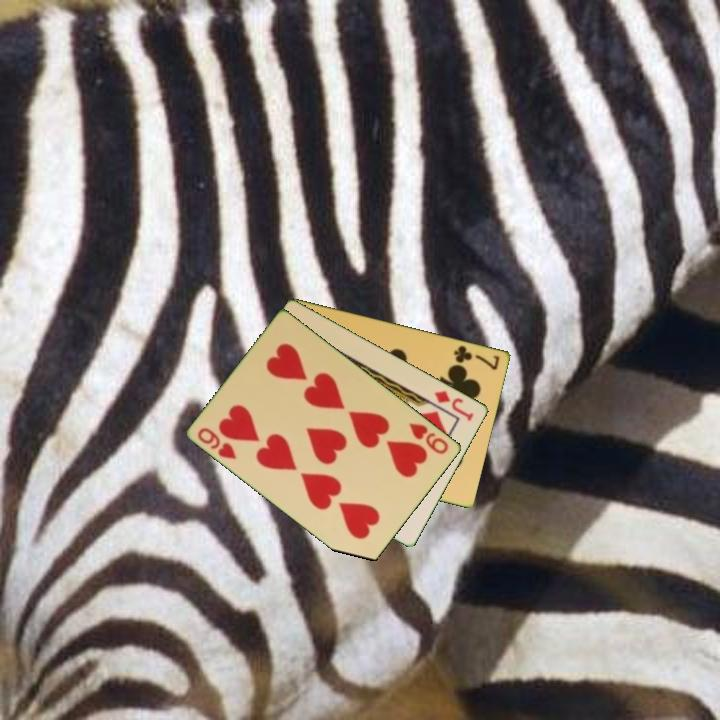7c: (450, 342, 503, 373)
9h: (406, 419, 452, 457), (194, 424, 240, 462)
Jd: (431, 387, 477, 424)
